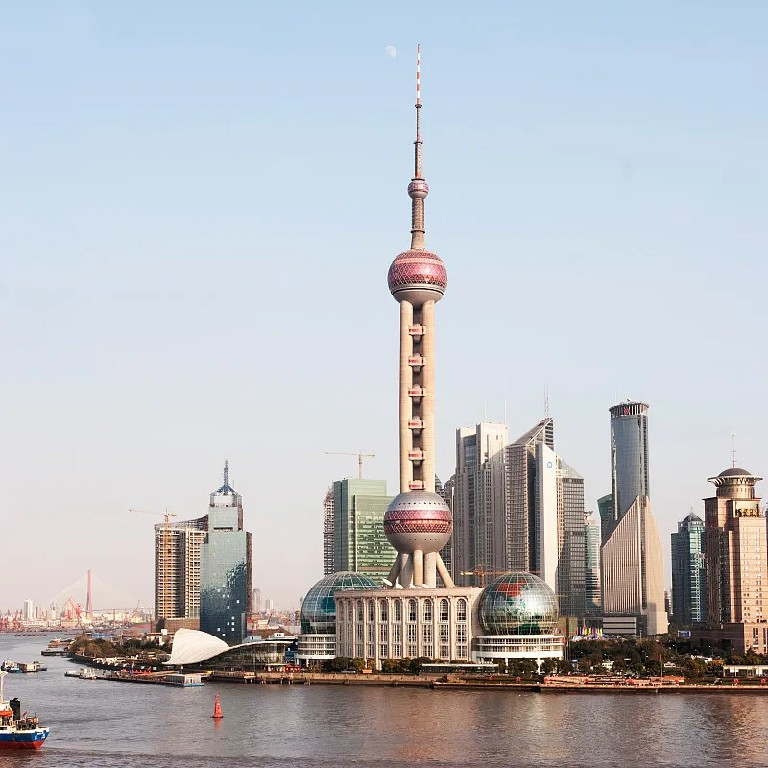Oriental: (382, 45, 456, 586)
